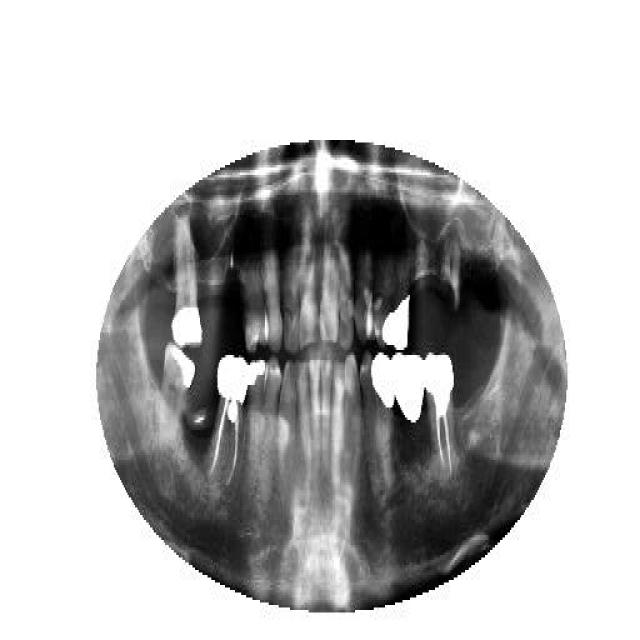Cavity: (438, 232, 464, 310)
Fillings: (172, 212, 202, 352), (156, 340, 195, 438), (369, 350, 395, 485), (381, 252, 411, 352), (394, 350, 424, 425), (246, 355, 265, 473)
Implant: (423, 342, 455, 490), (213, 352, 245, 492)
